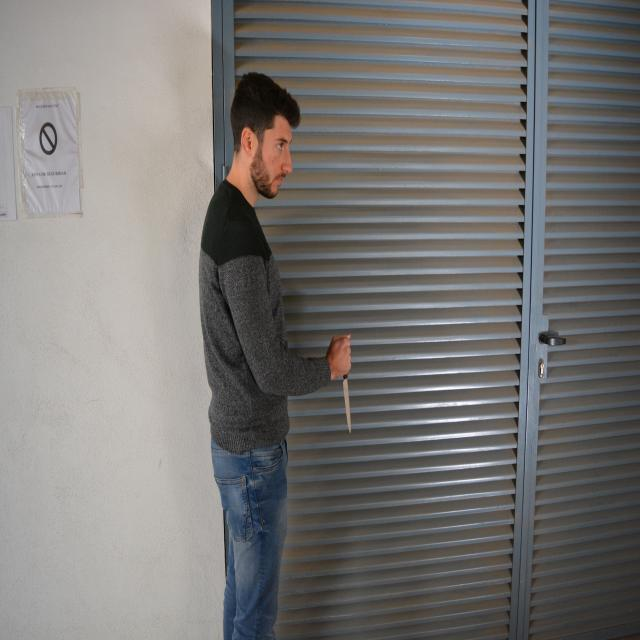knife: (341, 374, 357, 436)
